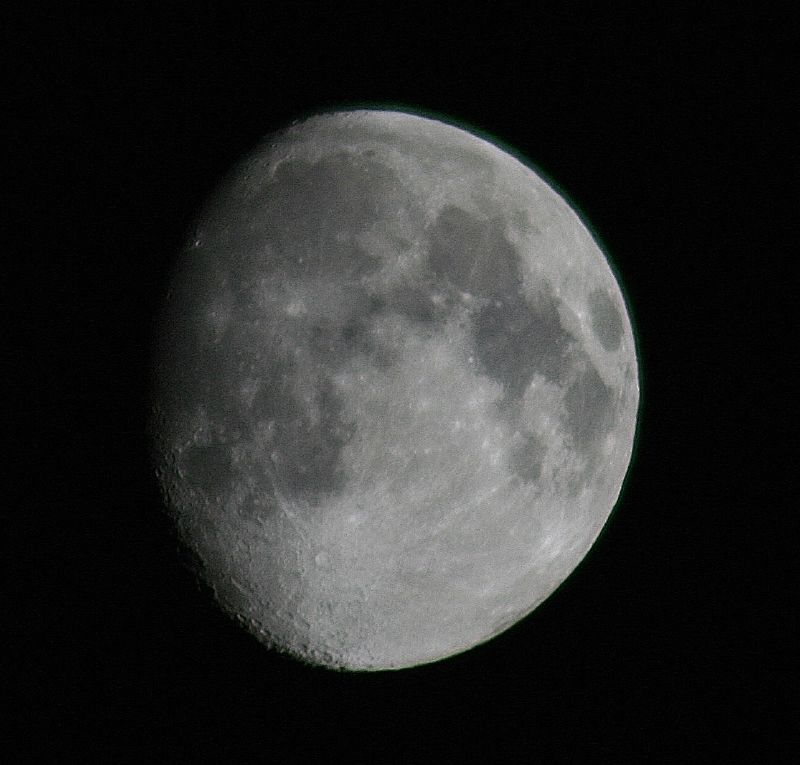crater: (173, 433, 247, 510), (282, 512, 346, 590), (260, 150, 320, 189), (279, 290, 328, 329), (195, 293, 233, 343), (456, 280, 482, 313), (360, 141, 391, 164), (350, 363, 377, 389), (188, 234, 212, 259), (567, 300, 585, 329), (448, 413, 468, 437), (295, 460, 314, 477)
